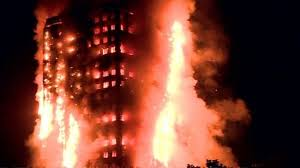fire: (27, 10, 225, 168)
